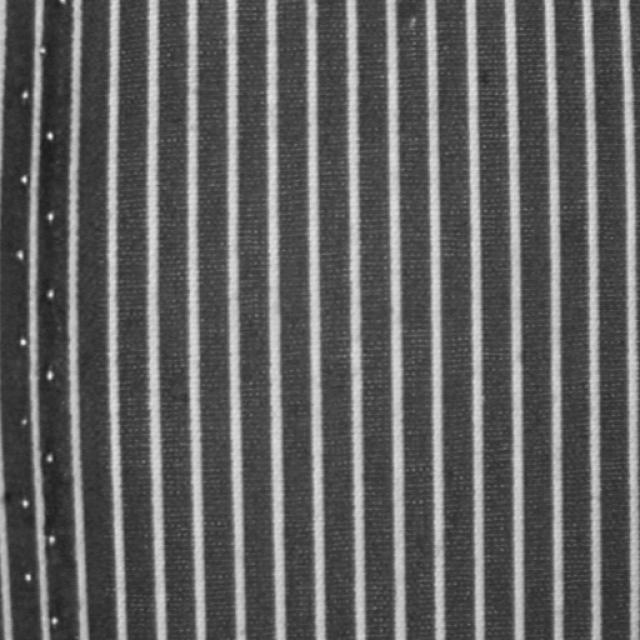Hole-Defect: (0, 0, 71, 639)
